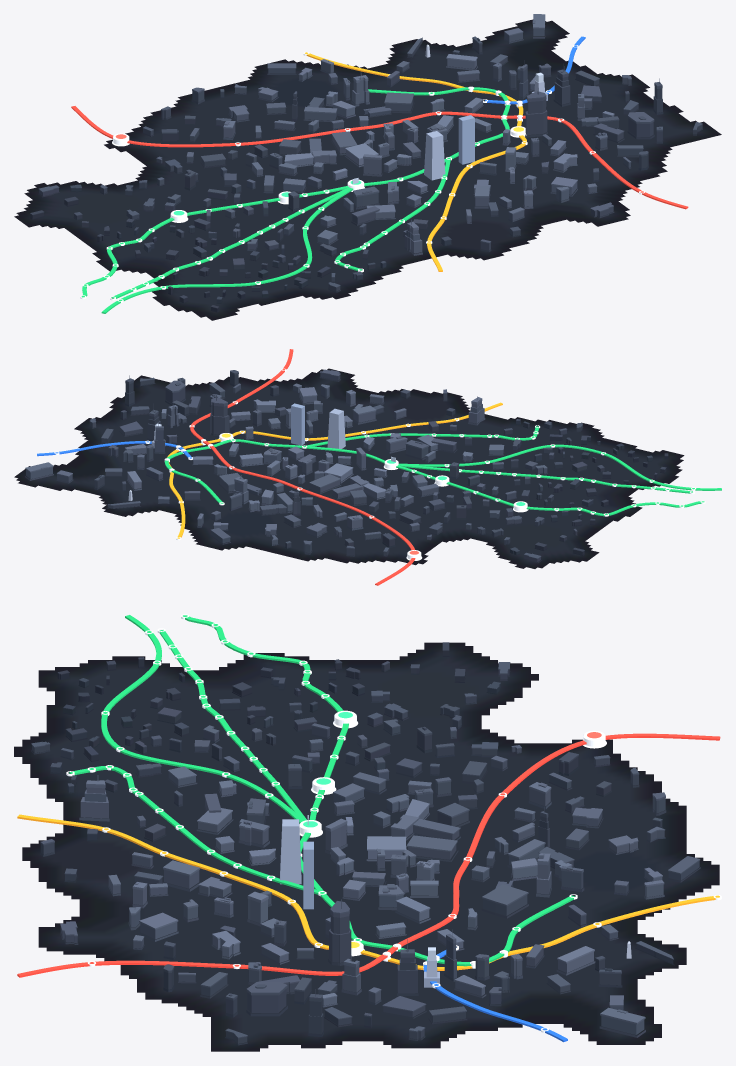
The model's file is boston-map-sculpture.glb.
3 views of the same model, one above another, from view 1: azimuth 30°, elevation 25°; view 2: azimuth 150°, elevation 25°; view 3: azimuth 270°, elevation 25° (orthographic). The views are drawn at different scales.
Visible parts, largest first — view 1: Ground plane, City blocks, Lacquer #00843D, Lacquer #DA291C, Station markers, Landmark stone, Lacquer #ED8B00; view 2: Ground plane, City blocks, Lacquer #00843D, Station markers, Lacquer #DA291C, Landmark stone, Lacquer #ED8B00, Lacquer #003DA5; view 3: Ground plane, City blocks, Lacquer #00843D, Lacquer #DA291C, Station markers, Lacquer #ED8B00, Landmark stone, Lacquer #003DA5.
Part boxes in pixels (x1,y1,x2,y2): Ground plane: [14, 19, 721, 320]; City blocks: [30, 14, 702, 312]; Lacquer #00843D: [81, 87, 509, 313]; Lacquer #DA291C: [71, 106, 688, 209]; Station markers: [80, 45, 644, 302]; Landmark stone: [424, 44, 547, 180]; Lacquer #ED8B00: [305, 52, 526, 271]; Ground plane: [14, 368, 684, 568]; City blocks: [25, 369, 668, 563]; Lacquer #00843D: [164, 426, 721, 516]; Station markers: [54, 368, 705, 560]; Lacquer #DA291C: [190, 349, 415, 585]; Landmark stone: [128, 403, 345, 500]; Lacquer #ED8B00: [167, 402, 502, 538]; Lacquer #003DA5: [37, 441, 191, 458]; Ground plane: [14, 642, 719, 1051]; City blocks: [31, 642, 700, 1045]; Lacquer #00843D: [69, 615, 574, 966]; Lacquer #DA291C: [17, 733, 720, 977]; Station markers: [66, 614, 721, 1032]; Lacquer #ED8B00: [17, 814, 719, 970]; Landmark stone: [280, 819, 631, 987]; Lacquer #003DA5: [423, 947, 567, 1042].
Bounding box in the file's own units: 1.5 × 0.1001 × 1.04.
